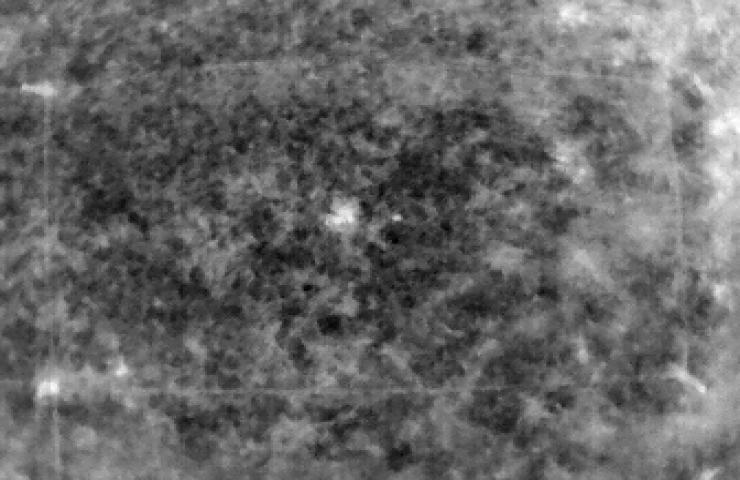landmines: (326, 199, 360, 229)
